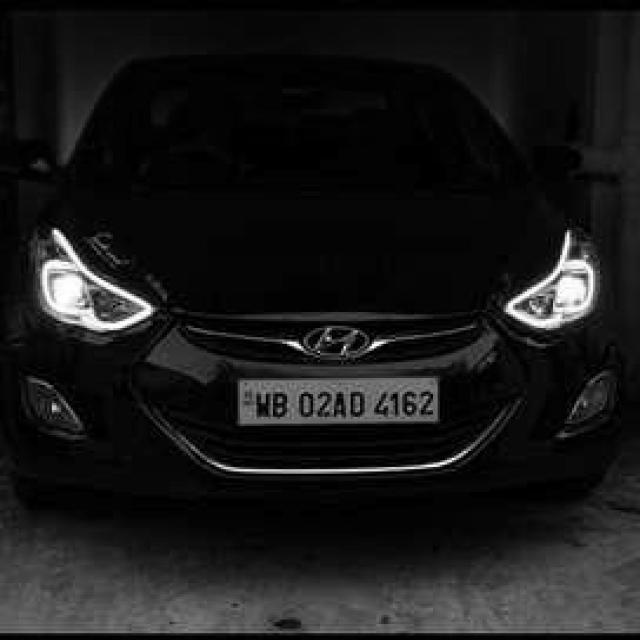car: (12, 48, 626, 546)
license-plate: (238, 374, 444, 428)
